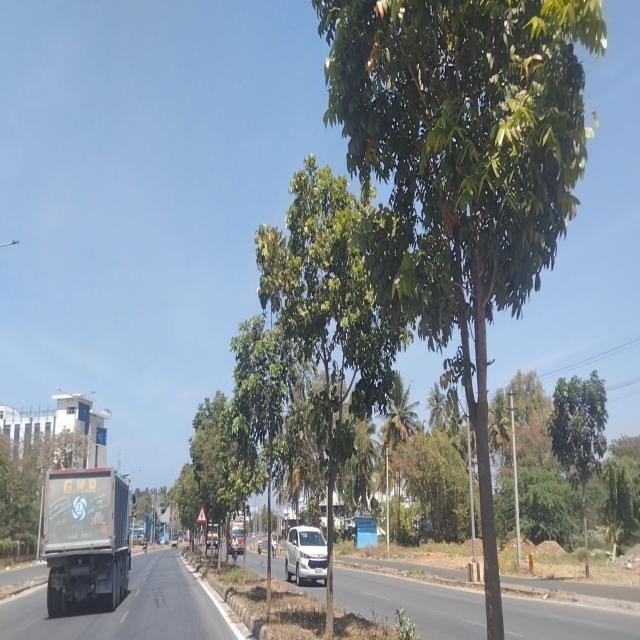bien_nguy_hiem: (196, 504, 206, 524)
